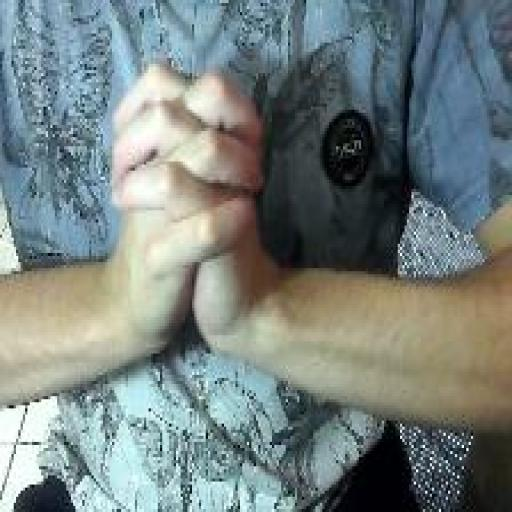Mi -snake-: (107, 56, 270, 368)
